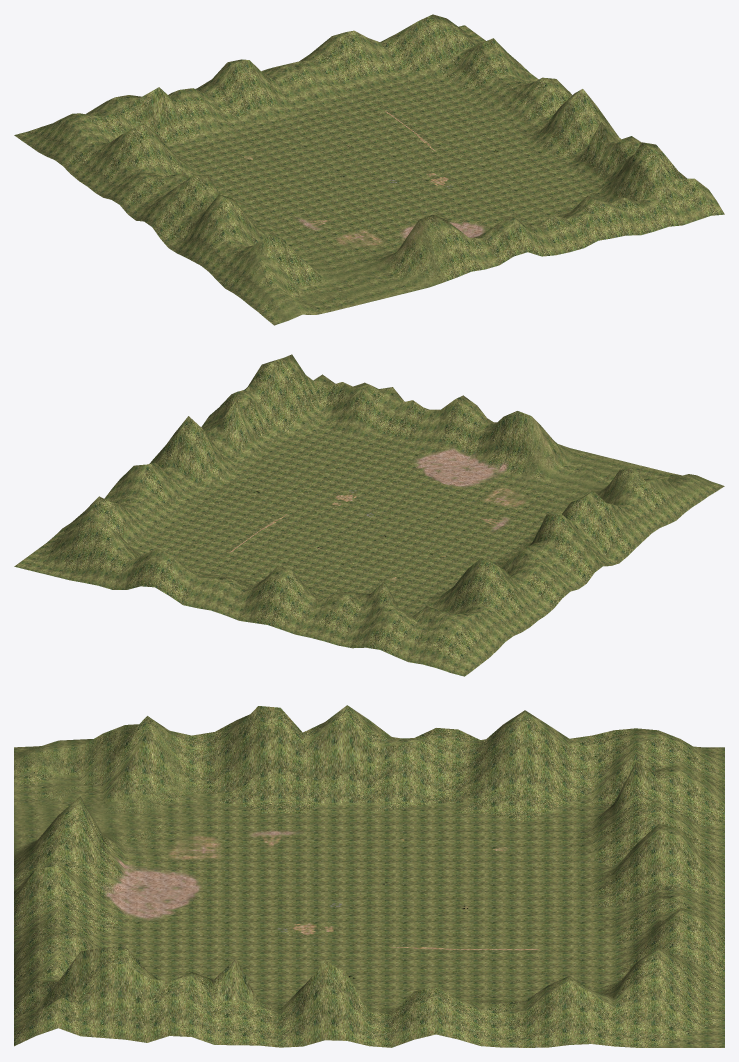
Rendered from terrain.fbx.
The picture shows the model from 3 angles, top to bottom: view 1: azimuth 30°, elevation 25°; view 2: azimuth 150°, elevation 25°; view 3: azimuth 270°, elevation 25°; orthographic projection. The views are drawn at different scales.
Visible parts, largest first — view 1: Mesh; view 2: Mesh; view 3: Mesh.
Part boxes in pixels (x1,y1,x2,y2): Mesh: (14, 14, 724, 325); Mesh: (14, 354, 724, 676); Mesh: (14, 705, 724, 1047).
Bounding box in the file's own units: 650 × 74.33 × 650.
1 material, 1 textured.
